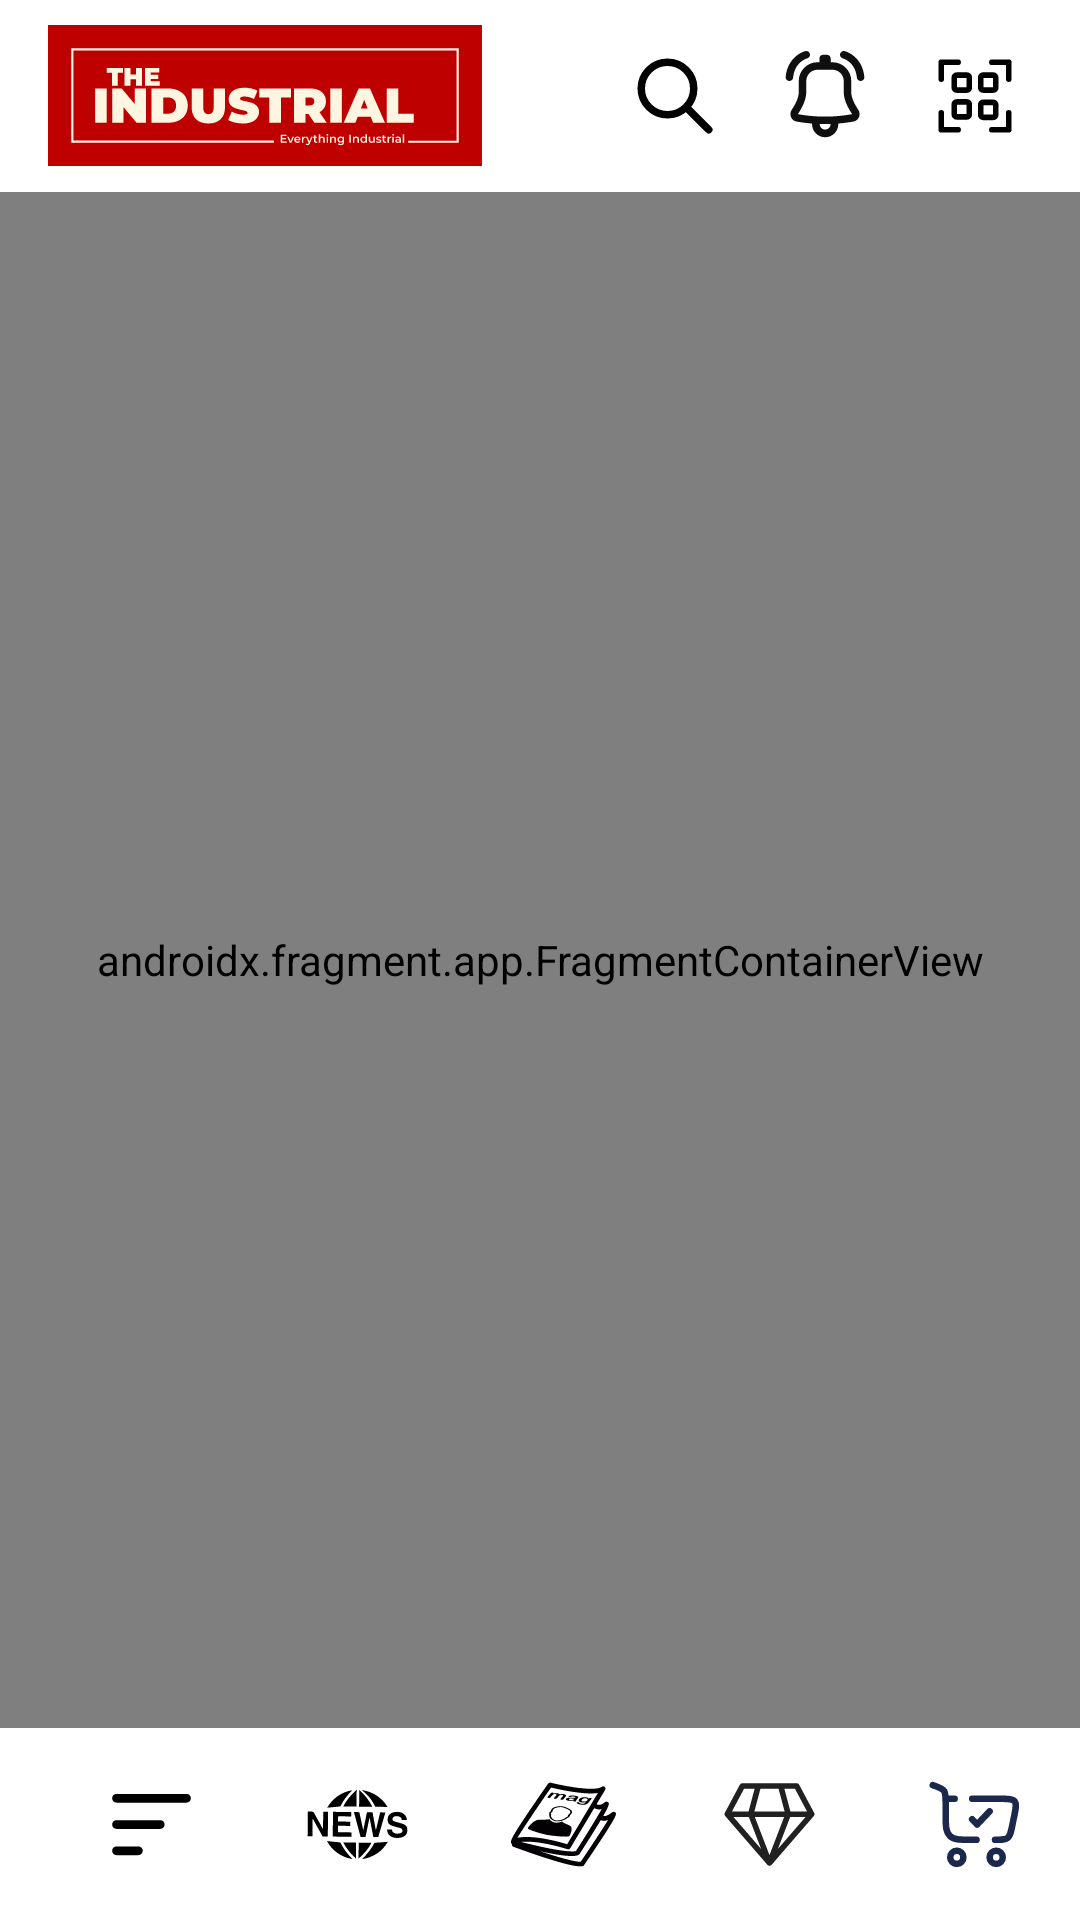

Point at icon controls on the screen. Image size 1080*1920, points as point (x, y).
cart: point (974, 1824)
exclusive: point (769, 1824)
menu: point (151, 1825)
Notification: point (825, 94)
QR: point (975, 96)
Search: point (675, 96)
